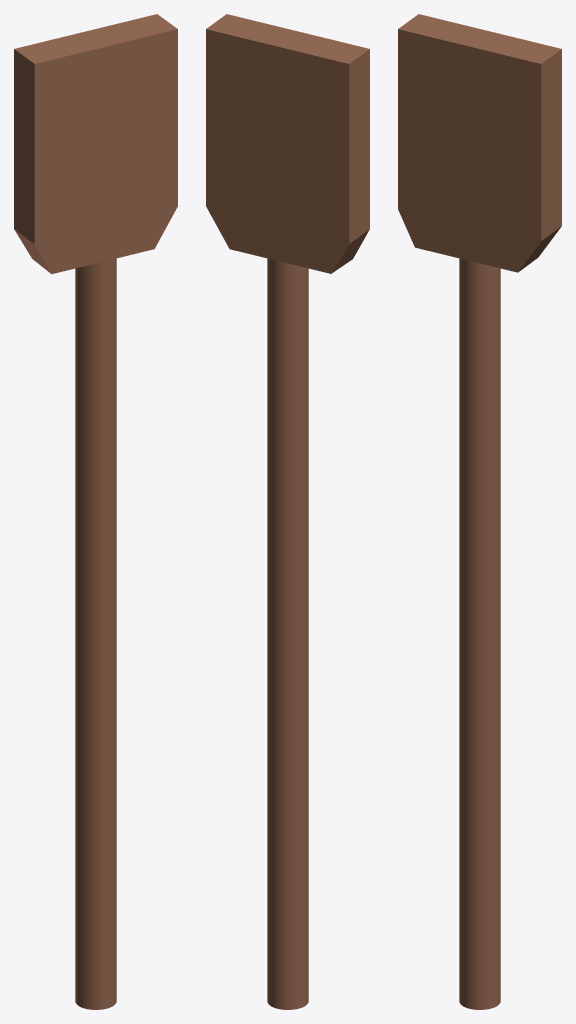
File: tr_paddle_v2.fbx
3 views of the same model, side by side, from view 1: azimuth 30°, elevation 25°; view 2: azimuth 150°, elevation 25°; view 3: azimuth 330°, elevation 25° (orthographic).
Visible parts, largest first — view 1: Cube; view 2: Cube; view 3: Cube.
Boxes of the visible parts, <box> form: Cube: <box>14,14,177,1009</box>; Cube: <box>206,14,369,1009</box>; Cube: <box>398,14,561,1009</box>.
Size of the model in its own units: 200 by 1284 by 50.
